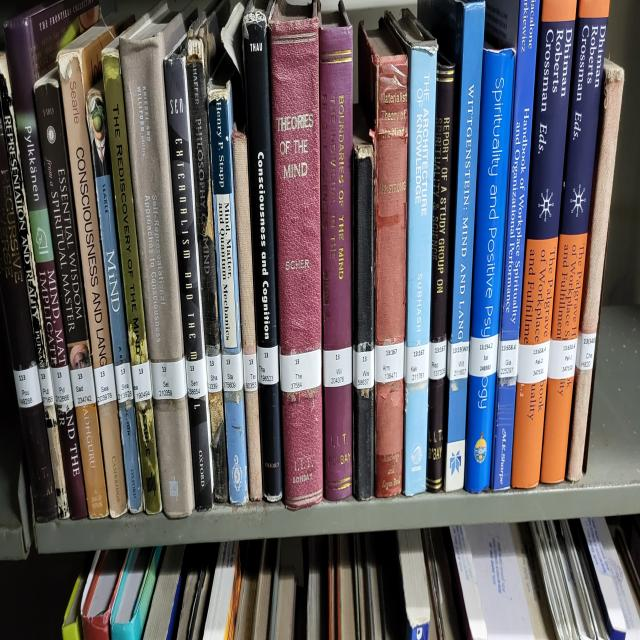Book: (6, 0, 86, 517), (120, 14, 195, 519), (58, 24, 128, 517), (34, 70, 108, 517), (541, 0, 609, 482), (419, 0, 485, 492), (0, 54, 69, 517), (511, 0, 575, 487), (102, 43, 161, 514), (270, 0, 324, 509), (485, 0, 540, 490), (385, 11, 438, 495), (566, 60, 624, 482), (0, 108, 58, 519), (86, 87, 142, 511), (359, 22, 408, 498), (164, 49, 214, 509), (465, 43, 515, 492), (186, 14, 229, 503), (244, 0, 282, 501), (208, 78, 249, 506), (319, 5, 352, 501), (426, 54, 455, 492), (232, 130, 262, 501), (352, 106, 375, 501)
Label: (280, 349, 321, 392), (150, 357, 188, 400), (518, 341, 550, 384), (374, 341, 404, 384), (14, 363, 41, 409), (322, 346, 352, 387), (469, 335, 499, 376), (548, 338, 578, 379), (70, 365, 96, 409), (51, 365, 74, 411), (405, 344, 429, 384), (94, 363, 116, 406), (221, 352, 244, 392), (186, 357, 208, 398), (352, 349, 374, 390), (498, 338, 519, 379), (131, 360, 151, 403), (448, 341, 469, 381), (258, 346, 279, 384), (575, 333, 596, 371), (115, 363, 134, 403), (39, 365, 55, 409), (429, 338, 446, 379), (242, 352, 258, 392), (206, 354, 222, 392)
